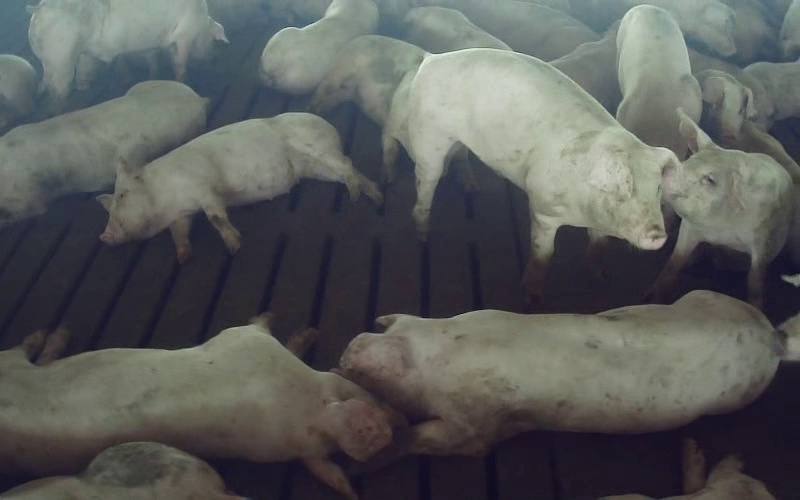pig: (0, 315, 401, 495), (340, 291, 779, 455), (406, 49, 679, 300), (98, 113, 381, 261), (0, 81, 208, 226), (651, 110, 791, 307), (29, 0, 226, 104), (311, 35, 427, 182), (616, 5, 701, 159)
